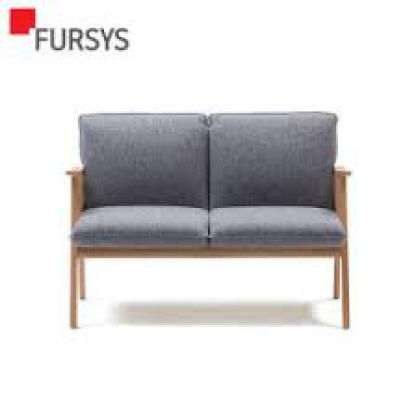sofa: (63, 111, 357, 338)
